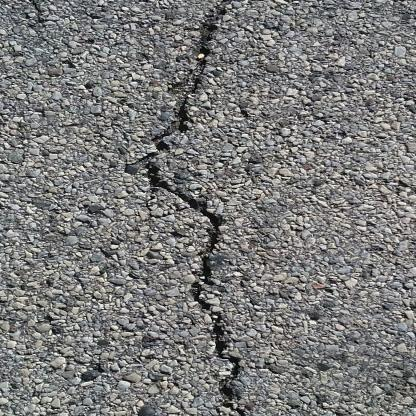Cracks: (146, 0, 305, 416)
